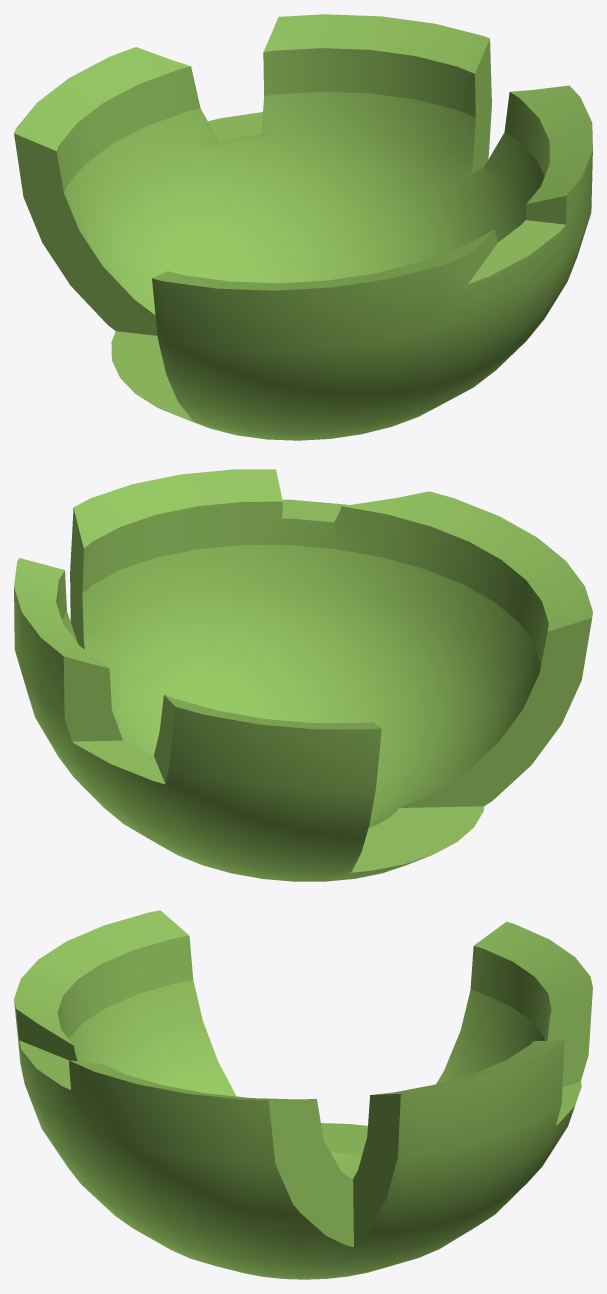
Rendered from Debris5.obj.
3 views of the same model, one above another, from view 1: azimuth 30°, elevation 25°; view 2: azimuth 150°, elevation 25°; view 3: azimuth 270°, elevation 25° (orthographic).
Visible parts, largest first — view 1: Debris5; view 2: Debris5; view 3: Debris5.
Boxes of the visible parts, box(x1,y1,x2,y2) form: Debris5: box(14, 14, 592, 440); Debris5: box(14, 469, 592, 881); Debris5: box(14, 910, 592, 1279).
Bounding box in the file's own units: 4.16 × 2.32 × 4.49.
